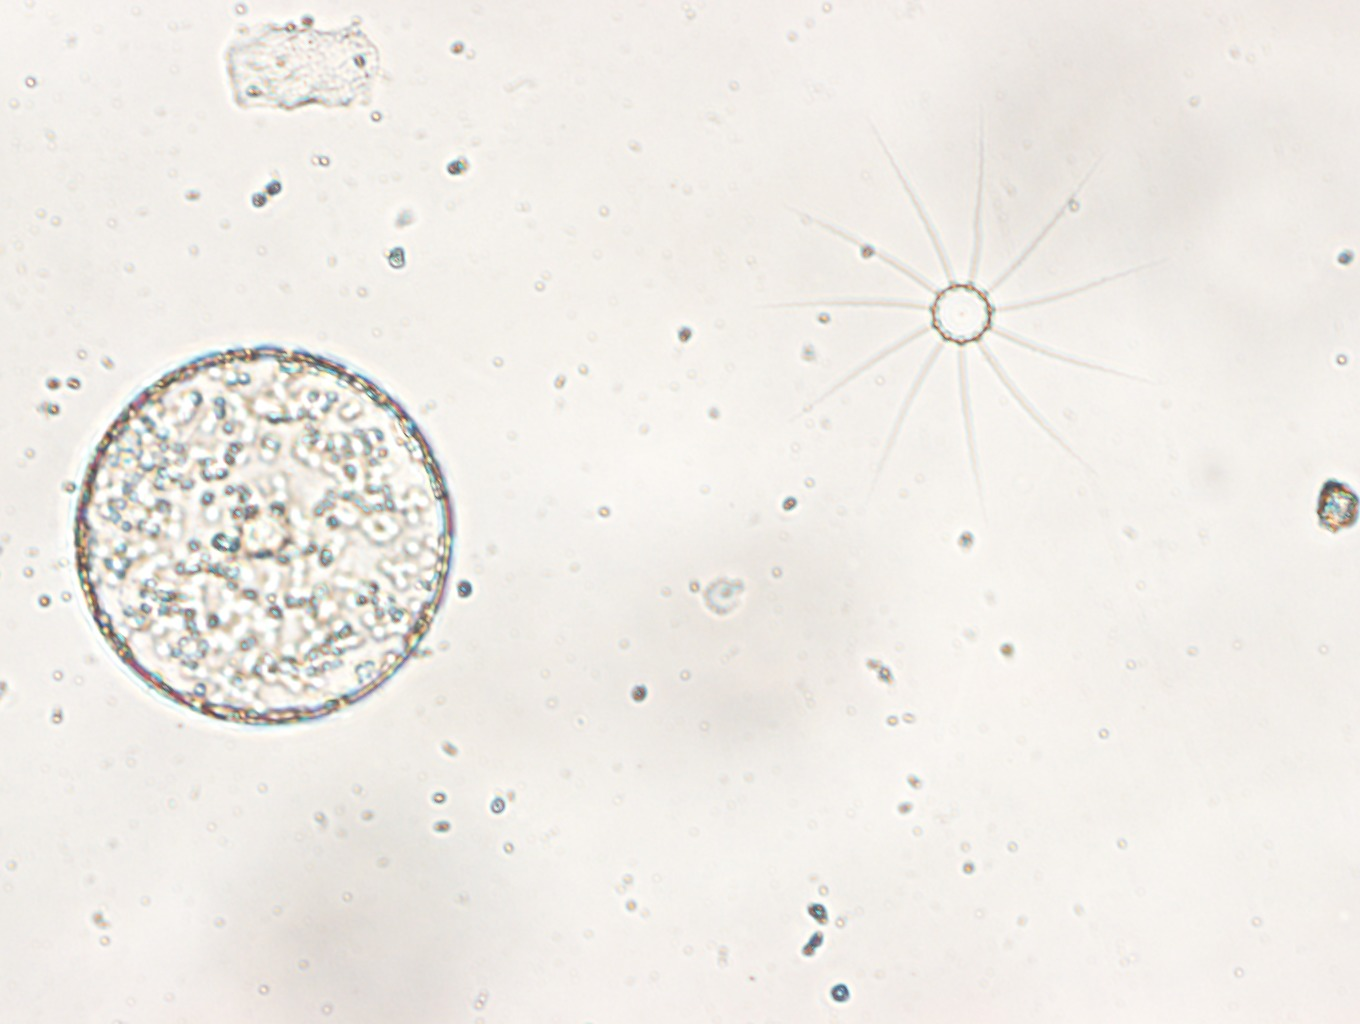bacteriastrum: (767, 103, 1153, 487)
coscinodiscus: (72, 345, 453, 724)
